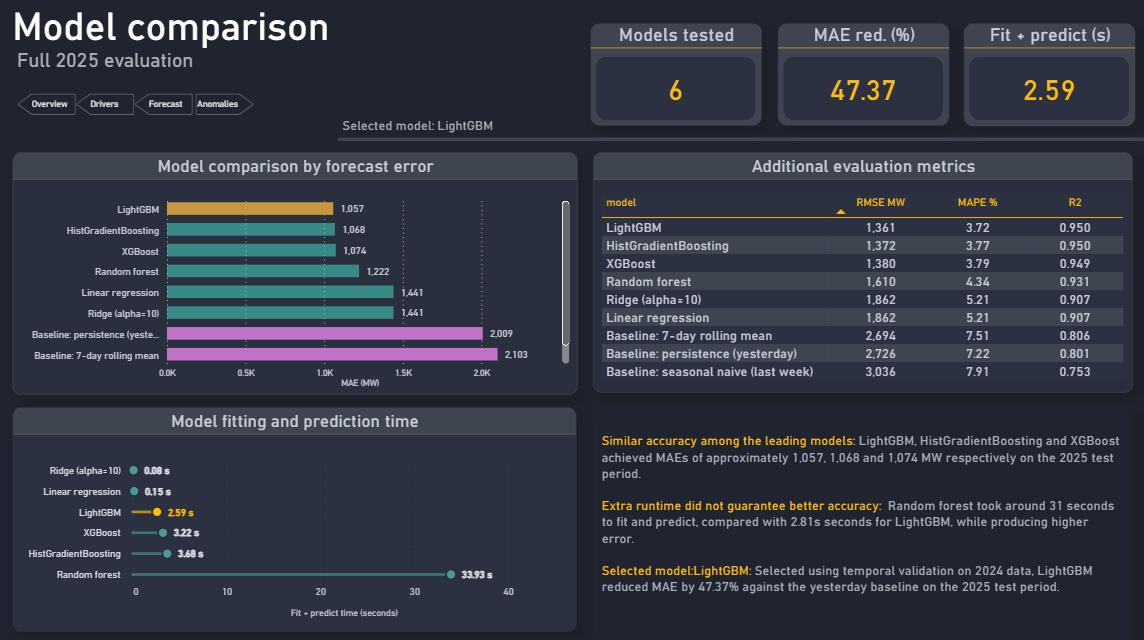

This screenshot's page, from the dashboard's own definition file:
{"tool":"powerbi","page":{"name":"Model comparison","canvas":[1280,720],"ordinal":3},"visuals":[{"type":"clusteredBarChart","title":"Model comparison by forecast error","fields":{"Category":["model_scorecard.model"],"Y":["Avg(model_scorecard.MAE)"]},"box":[18,170,628,270],"z":0},{"type":"group","id":"g1","title":"Group 2","box":[659.8,26.5,191.4,115.1],"z":1000},{"type":"group","id":"g2","title":"Group 2","box":[867.7,26.9,191.4,115.1],"z":2000},{"type":"group","id":"g3","title":"Group 2","box":[1074.2,26.9,190.3,115.1],"z":3000},{"type":"textbox","box":[13.3,0,447.2,67.9],"z":4000},{"type":"textbox","box":[17.9,49.6,218.4,45.7],"z":5000},{"type":"group","id":"g4","title":"Group 4","box":[659.8,26.5,191.4,115.1],"z":6000,"group":"g1"},{"type":"group","id":"g5","title":"Group 4","box":[867.7,26.9,191.5,114.9],"z":6000,"group":"g2"},{"type":"group","id":"g6","title":"Group 4","box":[1074.2,26.9,191.3,115.2],"z":6000,"group":"g3"},{"type":"tableEx","title":"Additional evaluation metrics","fields":{"Values":["model_scorecard.model","model_scorecard.RMSE","model_scorecard.MAPE","model_scorecard.R2"]},"box":[662.9,170.8,600,267.4],"z":6000},{"type":"deneb7E15AEF80B9E4D4F8E12924291ECE89A","title":"Model fitting and prediction time","fields":{"dataset":["model_scorecard.model","model_scorecard.fit_seconds"]},"box":[18.9,453.3,626.7,250],"z":7000},{"type":"cardVisual","title":"Models tested","fields":{"Data":["Count(model_scorecard.model)"]},"box":[659.8,26.5,191.5,114.9],"z":8000,"group":"g4"},{"type":"cardVisual","title":"MAE red. (%)","fields":{"Data":["Avg(model_scorecard.skill_vs_baseline_%)"]},"box":[867.7,26.9,191.5,114.9],"z":8000,"group":"g5"},{"type":"cardVisual","title":"Fit + predict (s)","fields":{"Data":["Sum(model_scorecard.fit_seconds)"]},"box":[1074.2,26.9,191.3,115.2],"z":8000,"group":"g6"},{"type":"textbox","box":[663.3,453.3,600,266.7],"z":8000},{"type":"textbox","box":[380.7,125.3,259,31.3],"z":9000},{"type":"shape","box":[380.7,95.2,898.8,121.7],"z":10000},{"type":"actionButton","box":[88,105.4,65.2,23.8],"z":11000},{"type":"actionButton","box":[153.3,105.4,65.2,23.8],"z":12000},{"type":"actionButton","box":[220.8,105.6,65.2,23.8],"z":13000},{"type":"actionButton","box":[22.8,105.4,65.2,23.8],"z":14000}]}

Visuals, with their boxes in screenshot pixels (x1, y1, x2, y2), scaled from the page's 1280x720 canvas onto the 1144x640 screenshot:
"Model comparison by forecast error" clusteredBarChart: <box>16,151,577,391</box>
"Group 2" group: <box>590,24,761,126</box>
"Group 2" group: <box>776,24,947,126</box>
"Group 2" group: <box>960,24,1130,126</box>
textbox: <box>12,0,412,60</box>
textbox: <box>16,44,211,85</box>
"Group 4" group: <box>590,24,761,126</box>
"Group 4" group: <box>776,24,947,126</box>
"Group 4" group: <box>960,24,1131,126</box>
"Additional evaluation metrics" tableEx: <box>592,152,1129,390</box>
"Model fitting and prediction time" deneb7E15AEF80B9E4D4F8E12924291ECE89A: <box>17,403,577,625</box>
"Models tested" cardVisual: <box>590,24,761,126</box>
"MAE red. (%)" cardVisual: <box>776,24,947,126</box>
"Fit + predict (s)" cardVisual: <box>960,24,1131,126</box>
textbox: <box>593,403,1129,639</box>
textbox: <box>340,111,572,139</box>
shape: <box>340,85,1143,193</box>
actionButton: <box>79,94,137,115</box>
actionButton: <box>137,94,195,115</box>
actionButton: <box>197,94,256,115</box>
actionButton: <box>20,94,79,115</box>
